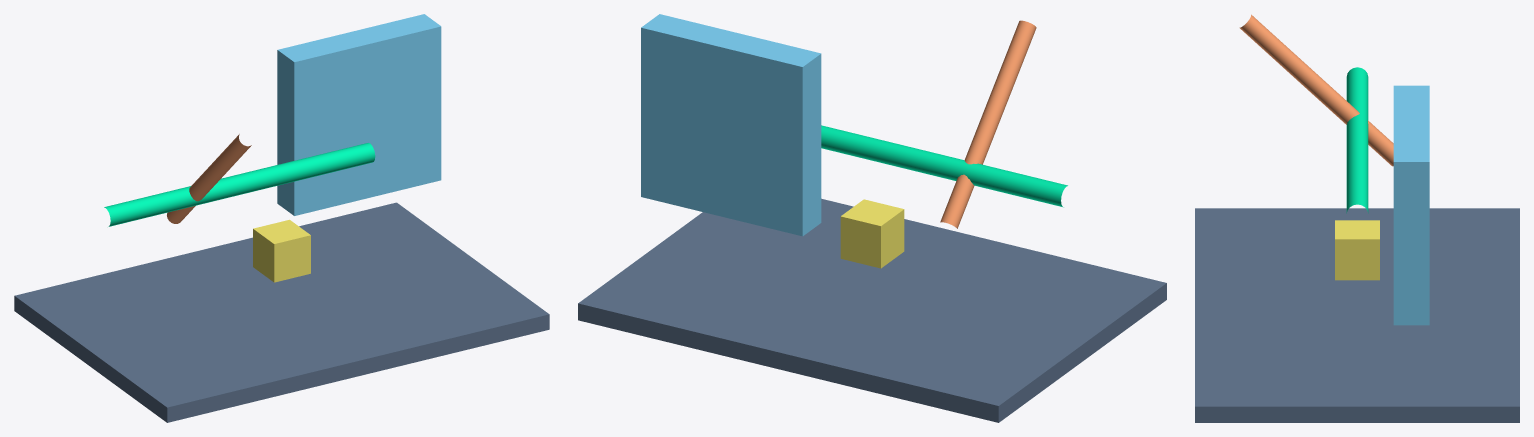
File: numerical_methods.glb
The picture shows the model from 3 angles, left to right: view 1: azimuth 30°, elevation 25°; view 2: azimuth 150°, elevation 25°; view 3: azimuth 270°, elevation 25°; orthographic projection. The views are drawn at different scales.
Visible parts, largest first — view 1: NewtonRaphsonSlopeBoard, MatrixGaussEliminatorGrid, SimpsonsParabolicCurve, ConvergenceRootMarker, TangentSlopePointer; view 2: NewtonRaphsonSlopeBoard, MatrixGaussEliminatorGrid, SimpsonsParabolicCurve, TangentSlopePointer, ConvergenceRootMarker; view 3: NewtonRaphsonSlopeBoard, MatrixGaussEliminatorGrid, TangentSlopePointer, SimpsonsParabolicCurve, ConvergenceRootMarker.
Part boxes in pixels (left/top/right/bottom): NewtonRaphsonSlopeBoard: left=14, top=202, right=549, bottom=422; MatrixGaussEliminatorGrid: left=277, top=14, right=441, bottom=215; SimpsonsParabolicCurve: left=104, top=143, right=375, bottom=226; ConvergenceRootMarker: left=253, top=219, right=310, bottom=282; TangentSlopePointer: left=167, top=134, right=251, bottom=223; NewtonRaphsonSlopeBoard: left=578, top=198, right=1166, bottom=422; MatrixGaussEliminatorGrid: left=641, top=14, right=821, bottom=236; SimpsonsParabolicCurve: left=821, top=125, right=1067, bottom=207; TangentSlopePointer: left=940, top=20, right=1036, bottom=228; ConvergenceRootMarker: left=840, top=199, right=904, bottom=268; NewtonRaphsonSlopeBoard: left=1195, top=208, right=1519, bottom=422; MatrixGaussEliminatorGrid: left=1393, top=85, right=1429, bottom=325; TangentSlopePointer: left=1239, top=14, right=1393, bottom=166; SimpsonsParabolicCurve: left=1346, top=67, right=1368, bottom=213; ConvergenceRootMarker: left=1335, top=220, right=1379, bottom=280.
Bounding box in the file's own units: 2.6 × 1.61 × 1.8.
